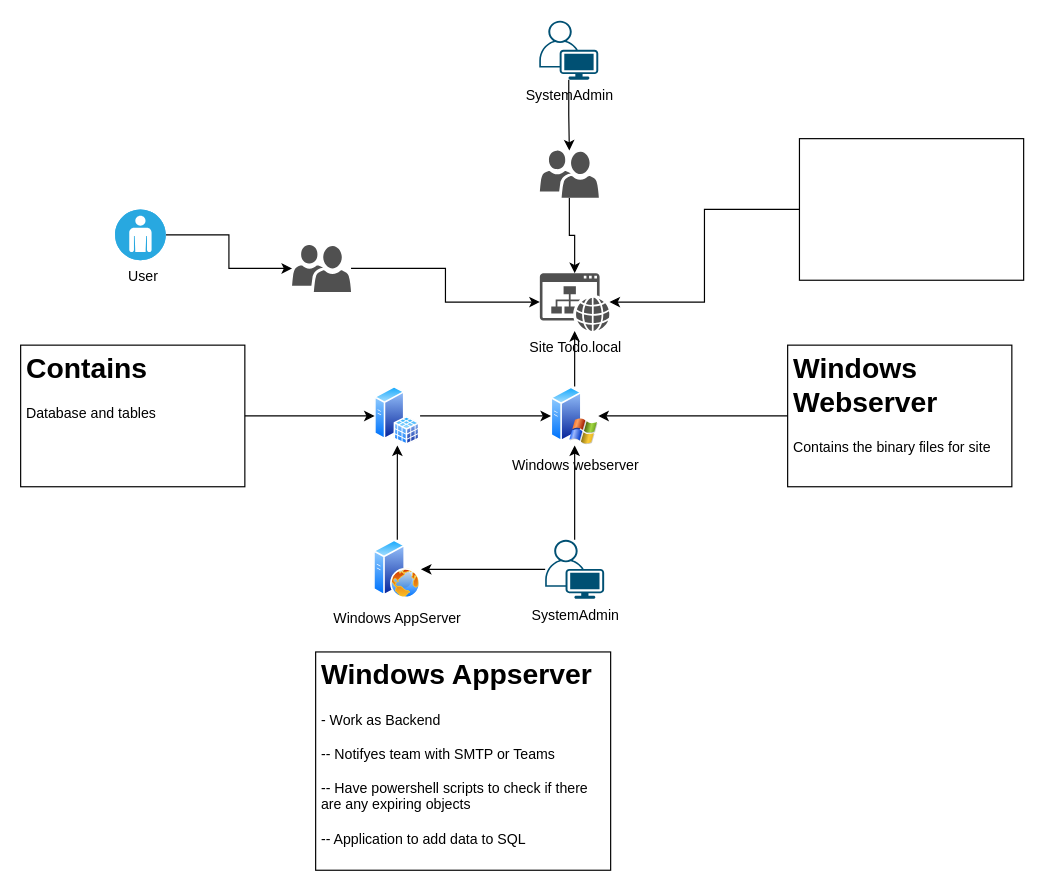
This 1044x891 diagram has some shape labels left out. Here are the shapes that lost their labels. From the top down, the centre of each, then its label:
point (568, 173): AD-Group System Users Read
point (911, 208): Site User, if got permission can read PsToDo Site
point (320, 267): AD-Group Public Users Read
point (396, 415): Windows SQL
